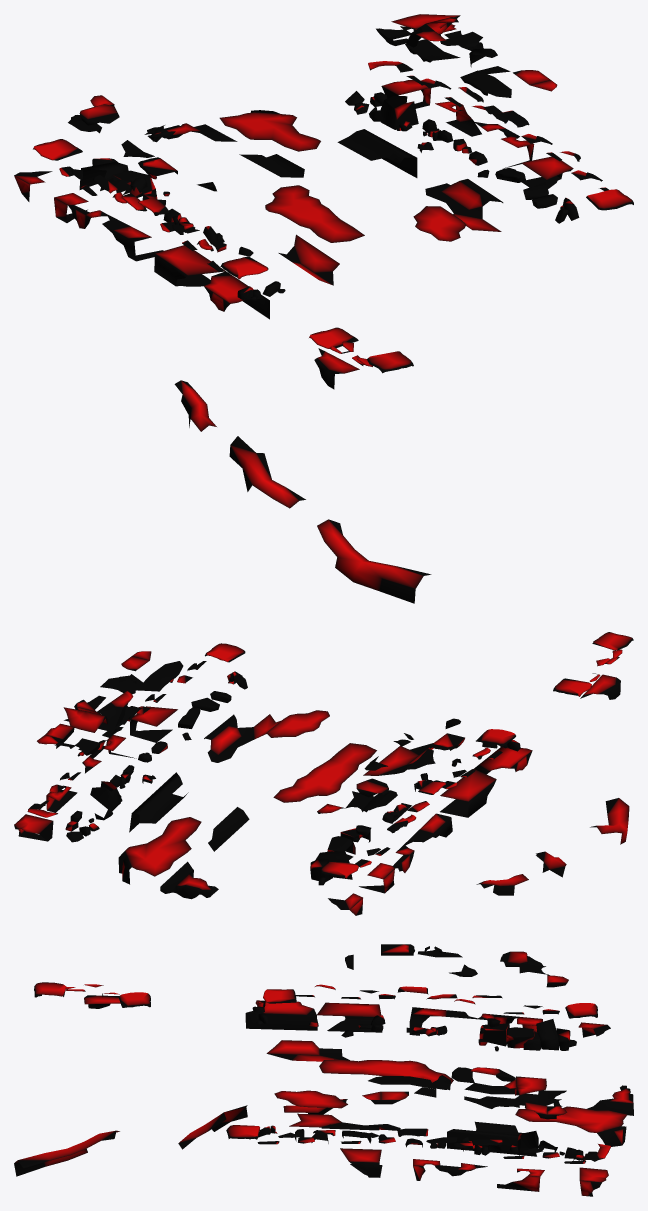
Rendered from Ground_01_1__Mt_CmnTex_Decal_Snow_A.fbx.
The picture shows the model from 3 angles, top to bottom: view 1: azimuth 30°, elevation 25°; view 2: azimuth 150°, elevation 25°; view 3: azimuth 270°, elevation 25°; orthographic projection. The views are drawn at different scales.
Parts seen in each view (by area): view 1: attribwrangle2; view 2: attribwrangle2; view 3: attribwrangle2.
Part boxes in pixels (x1=…): attribwrangle2: x1=14, y1=14, x2=633, y2=603; attribwrangle2: x1=14, y1=632, x2=633, y2=915; attribwrangle2: x1=14, y1=944, x2=633, y2=1196.
Bounding box in the file's own units: 4933 × 3255 × 7920.
